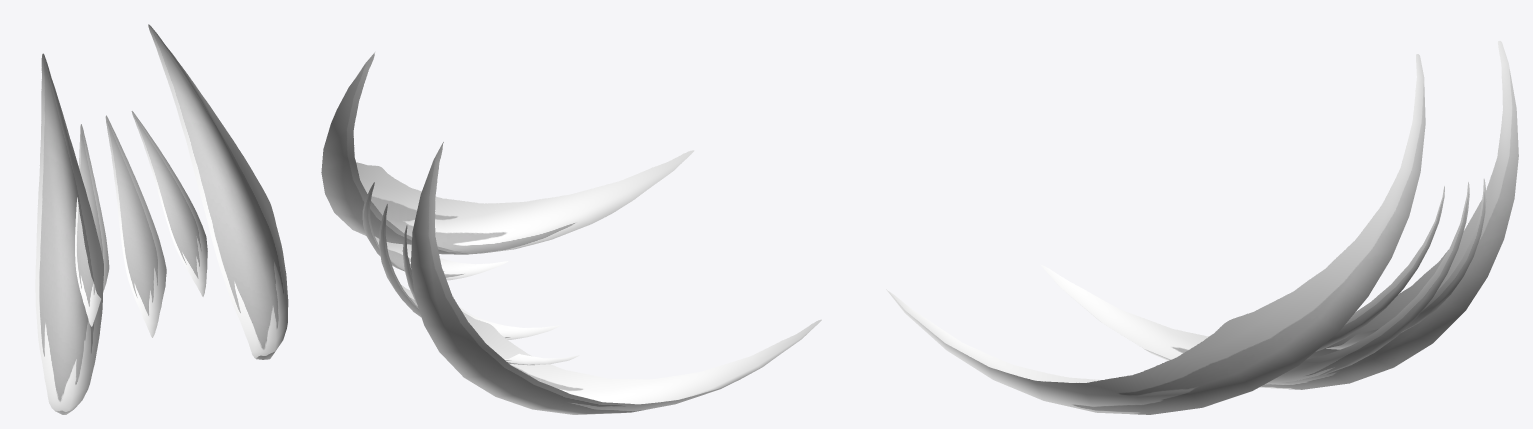
The model's file is fx_m10117_skill02_end.fbx.
3 views of the same model, side by side, from view 1: azimuth 30°, elevation 25°; view 2: azimuth 150°, elevation 25°; view 3: azimuth 270°, elevation 25° (orthographic). The views are drawn at different scales.
Visible parts, largest first — view 1: trail_alpha_out, trail_alpha; view 2: trail_alpha_out, trail_alpha; view 3: trail_alpha_out, trail_alpha.
Part boxes in pixels (left/top/right/bottom): trail_alpha_out: left=35, top=24, right=288, bottom=414; trail_alpha: left=75, top=111, right=207, bottom=337; trail_alpha_out: left=321, top=52, right=821, bottom=414; trail_alpha: left=362, top=182, right=579, bottom=365; trail_alpha_out: left=886, top=41, right=1518, bottom=414; trail_alpha: left=1266, top=178, right=1486, bottom=383.
Bounding box in the file's own units: 393 × 377 × 492.
Materials: 2 (2 with a texture image).
